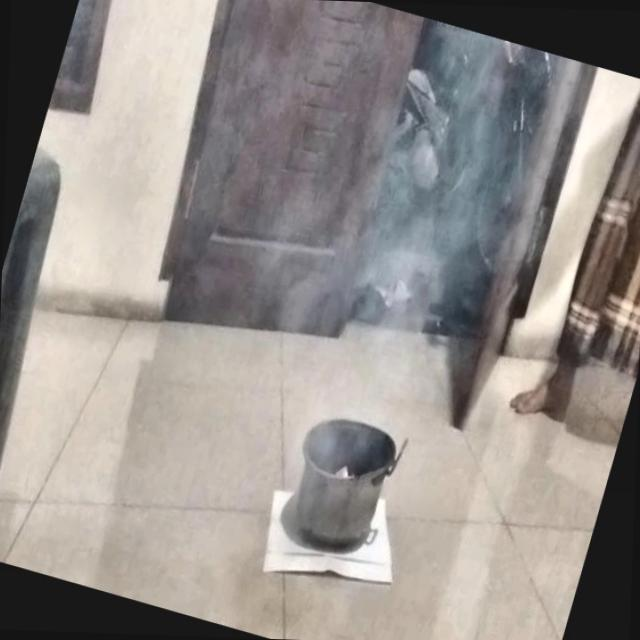smoke: (284, 113, 470, 392)
